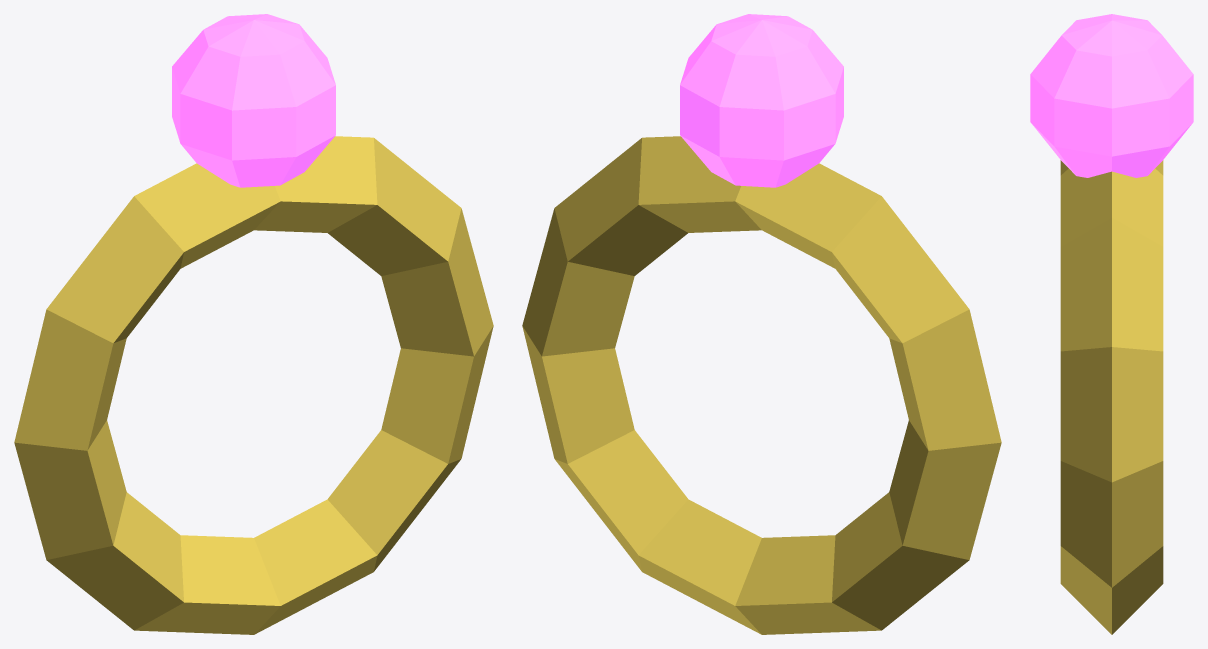
File: artifact_ring.glb
3 renders of one model, left to right at view 1: azimuth 30°, elevation 25°; view 2: azimuth 150°, elevation 25°; view 3: azimuth 270°, elevation 25°, orthographic. The views are drawn at different scales.
Visible parts, largest first — view 1: artifact_ring; view 2: artifact_ring; view 3: artifact_ring.
Part boxes in pixels (x1,y1,x2,y2): artifact_ring: (14,14,493,634); artifact_ring: (522,14,1001,634); artifact_ring: (1030,14,1193,634).
Size of the model in its own units: 0.062 by 0.076 by 0.019.
